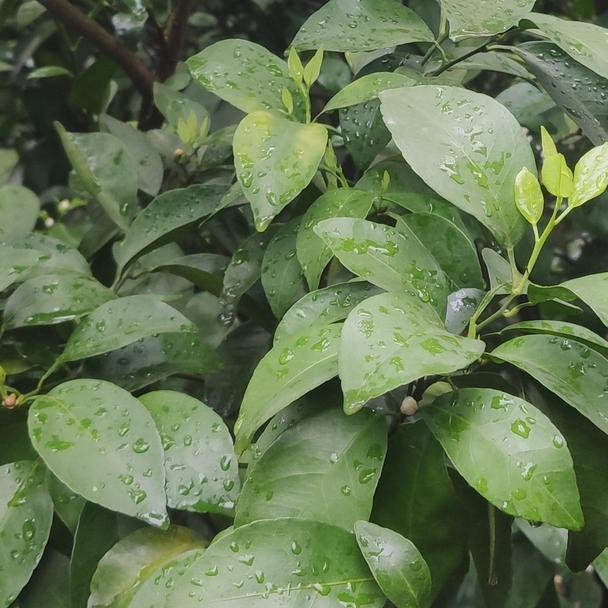shoot: (511, 125, 608, 280)
